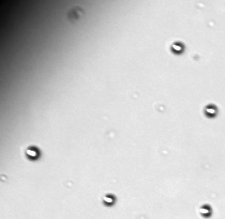Living Cell: (26, 146, 39, 160), (205, 104, 218, 118), (170, 42, 184, 54), (103, 194, 116, 206), (199, 205, 212, 216)
